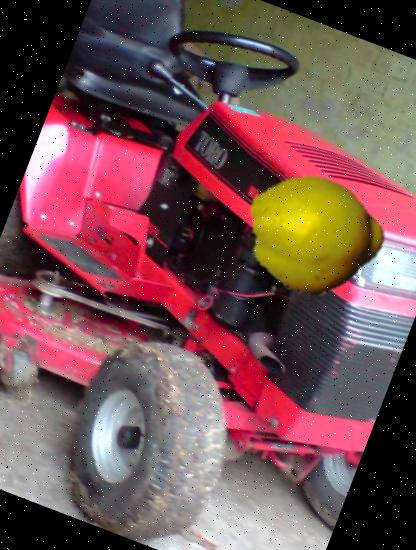Quince: (225, 144, 406, 326)
